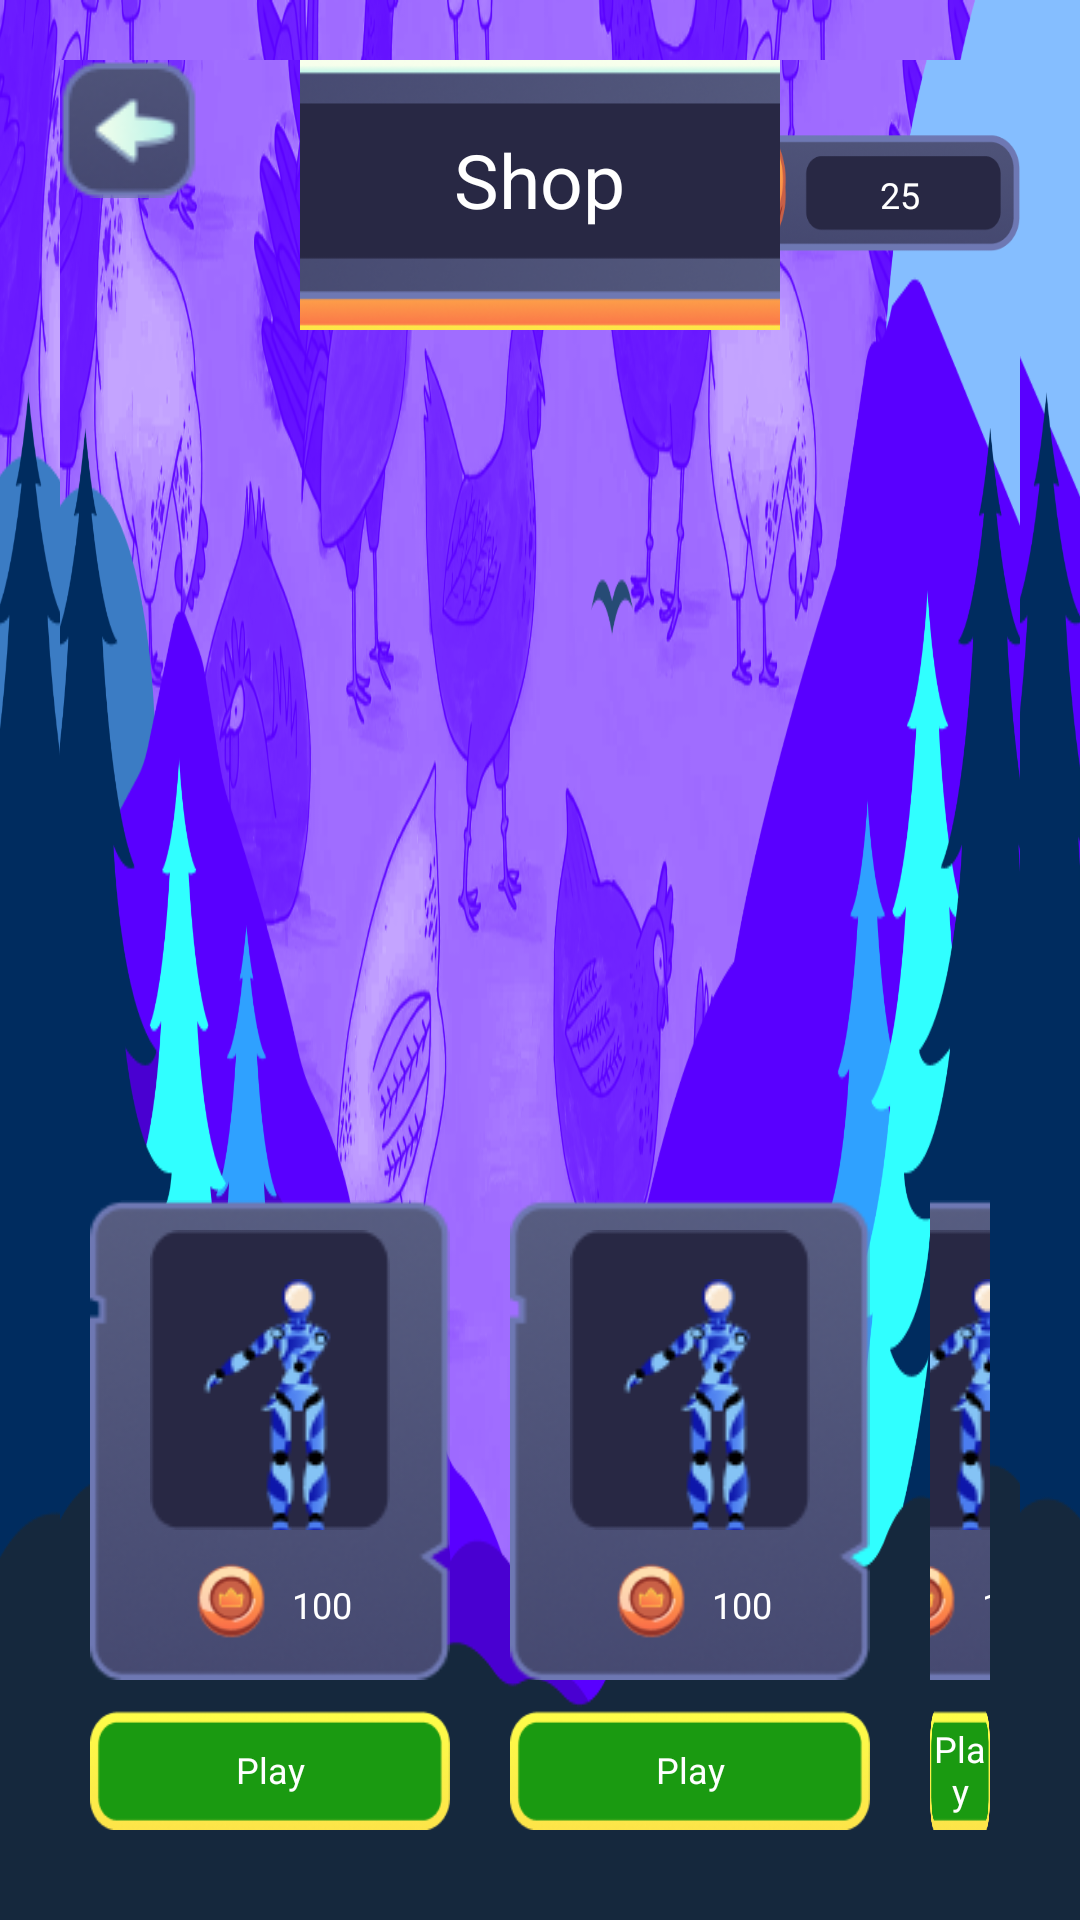

Screen size 1080 × 1920. Icon name, then its center in pixels as [x,y]:
back: [128,129]
